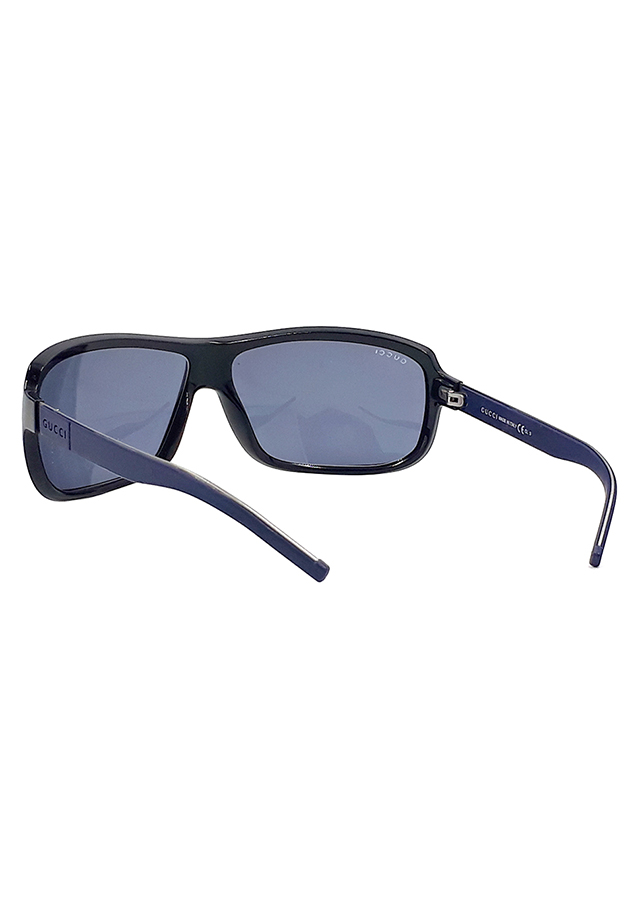Gucci: (34, 399, 75, 450), (369, 344, 412, 373), (477, 400, 501, 429)
